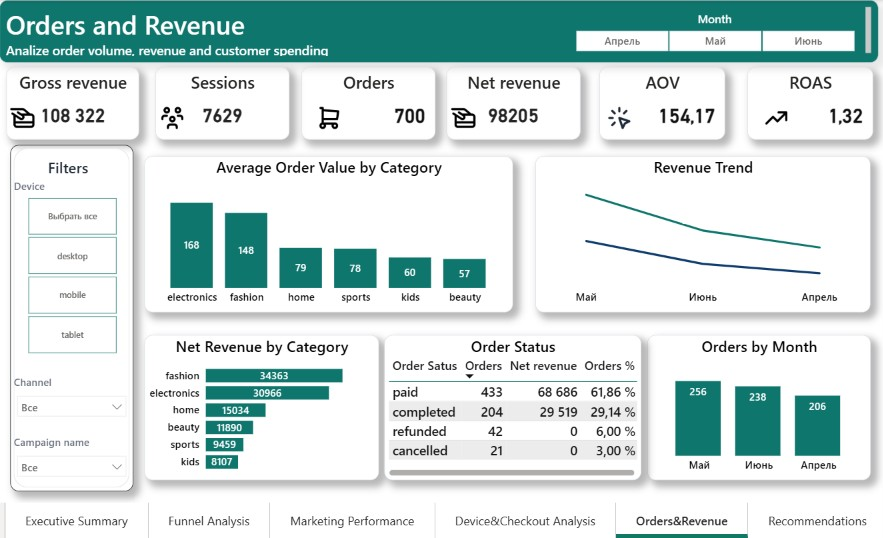

Layout of this report page (visuals, bound fields, positions):
{"tool":"powerbi","page":{"name":"Orders&Revenue","canvas":[1280,720],"ordinal":4},"visuals":[{"type":"textbox","box":[0,0,1259,90],"z":0},{"type":"slicer","title":"Month","fields":{"Values":["dim_calendar.Month"]},"box":[800,16,448,64],"z":1000},{"type":"shape","box":[16,208,176,496],"z":1000,"group":"g1"},{"type":"card","title":"Gross revenue","fields":{"Values":["_Measure.Gross revenue"]},"box":[10,96,190,104],"z":2000},{"type":"image","box":[224,144,48,48],"z":3000},{"type":"slicer","title":"Channel","fields":{"Values":["fact_sessions.channel"]},"box":[16,537,176,64],"z":3000,"group":"g1"},{"type":"card","title":"Sessions","fields":{"Values":["_Measure.0_Session_All"]},"box":[224,96,192,104],"z":4000},{"type":"slicer","title":"Device","fields":{"Values":["fact_sessions.device"]},"box":[16,256,176,256],"z":4000,"group":"g1"},{"type":"cardVisual","title":"ROAS","fields":{"Data":["_Measure.ROAS"]},"box":[1072,96,180,104],"z":5000},{"type":"card","title":"Net revenue","fields":{"Values":["_Measure.Net revenue"]},"box":[640,96,192,104],"z":6000},{"type":"slicer","title":"Campaign name","fields":{"Values":["dim_campaigns.campaign_name"]},"box":[16,624,176,64],"z":6000,"group":"g1"},{"type":"image","box":[448,144,48,48],"z":7000},{"type":"image","box":[640,144,48,48],"z":8000},{"type":"cardVisual","title":"Orders","fields":{"Data":["_Measure.Orders"]},"box":[432,96,192,104],"z":9000},{"type":"cardVisual","title":"AOV","fields":{"Data":["_Measure.AVG_order_value"]},"box":[859.6,96,180,104],"z":10000},{"type":"image","box":[1088,144,48,48],"z":11000},{"type":"image","box":[864,144,48,48],"z":12000},{"type":"image","box":[8,144,48,48],"z":13000},{"type":"group","id":"g1","title":"Группа 1","box":[16,208,176,496],"z":14000},{"type":"barChart","title":"Net Revenue by Category","fields":{"Category":["dim_products.category"],"Y":["_Measure.Category Revenue"]},"box":[208,480,336,208],"z":15000},{"type":"clusteredColumnChart","title":"Average Order Value by Category","fields":{"Y":["_Measure.AOV by Category"],"Category":["dim_products.category"]},"box":[208,224,528,224],"z":16000},{"type":"textbox","box":[64.8,219.7,96.7,43.3],"z":17000,"group":"g1"},{"type":"lineChart","title":"Revenue Trend","fields":{"Category":["dim_calendar.Month"],"Y":["_Measure.Net revenue","_Measure.Gross revenue"]},"box":[768,224,480,224],"z":17000},{"type":"clusteredColumnChart","title":"Orders by Month","fields":{"Category":["dim_calendar.Month"],"Y":["_Measure.Orders"]},"box":[928,480,320,208],"z":18000},{"type":"tableEx","title":"Order Status","fields":{"Values":["fact_orders.order_status","_Measure.Orders","_Measure.Net revenue","_Measure.Orders %"]},"box":[552,480,368,208],"z":19000}]}

Visuals, with their boxes on the page's 1280x720 design canvas (x1, y1, x2, y2). These are canvas units, not pixel positions in the 883x538 screenshot, which may show the page scaled, cropped or inside an application window:
textbox: box=[0, 0, 1259, 90]
"Month" slicer: box=[800, 16, 1248, 80]
shape: box=[16, 208, 192, 704]
"Gross revenue" card: box=[10, 96, 200, 200]
image: box=[224, 144, 272, 192]
"Channel" slicer: box=[16, 537, 192, 601]
"Sessions" card: box=[224, 96, 416, 200]
"Device" slicer: box=[16, 256, 192, 512]
"ROAS" cardVisual: box=[1072, 96, 1252, 200]
"Net revenue" card: box=[640, 96, 832, 200]
"Campaign name" slicer: box=[16, 624, 192, 688]
image: box=[448, 144, 496, 192]
image: box=[640, 144, 688, 192]
"Orders" cardVisual: box=[432, 96, 624, 200]
"AOV" cardVisual: box=[860, 96, 1040, 200]
image: box=[1088, 144, 1136, 192]
image: box=[864, 144, 912, 192]
image: box=[8, 144, 56, 192]
"Группа 1" group: box=[16, 208, 192, 704]
"Net Revenue by Category" barChart: box=[208, 480, 544, 688]
"Average Order Value by Category" clusteredColumnChart: box=[208, 224, 736, 448]
textbox: box=[65, 220, 162, 263]
"Revenue Trend" lineChart: box=[768, 224, 1248, 448]
"Orders by Month" clusteredColumnChart: box=[928, 480, 1248, 688]
"Order Status" tableEx: box=[552, 480, 920, 688]
